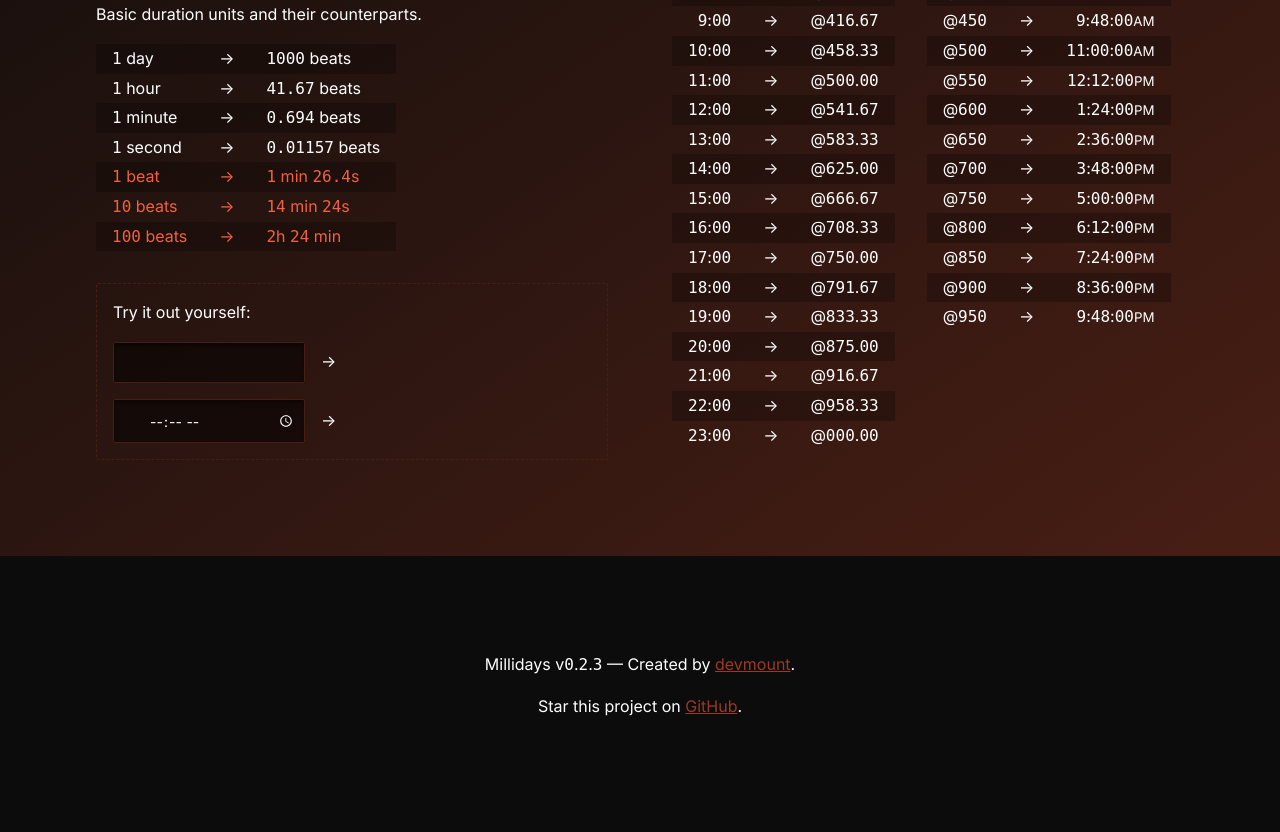
Test: App.vue › converts an entered local time to beats
(page scrolled)
In the time field: (209, 421) [113,399,305,443], type "14:30"
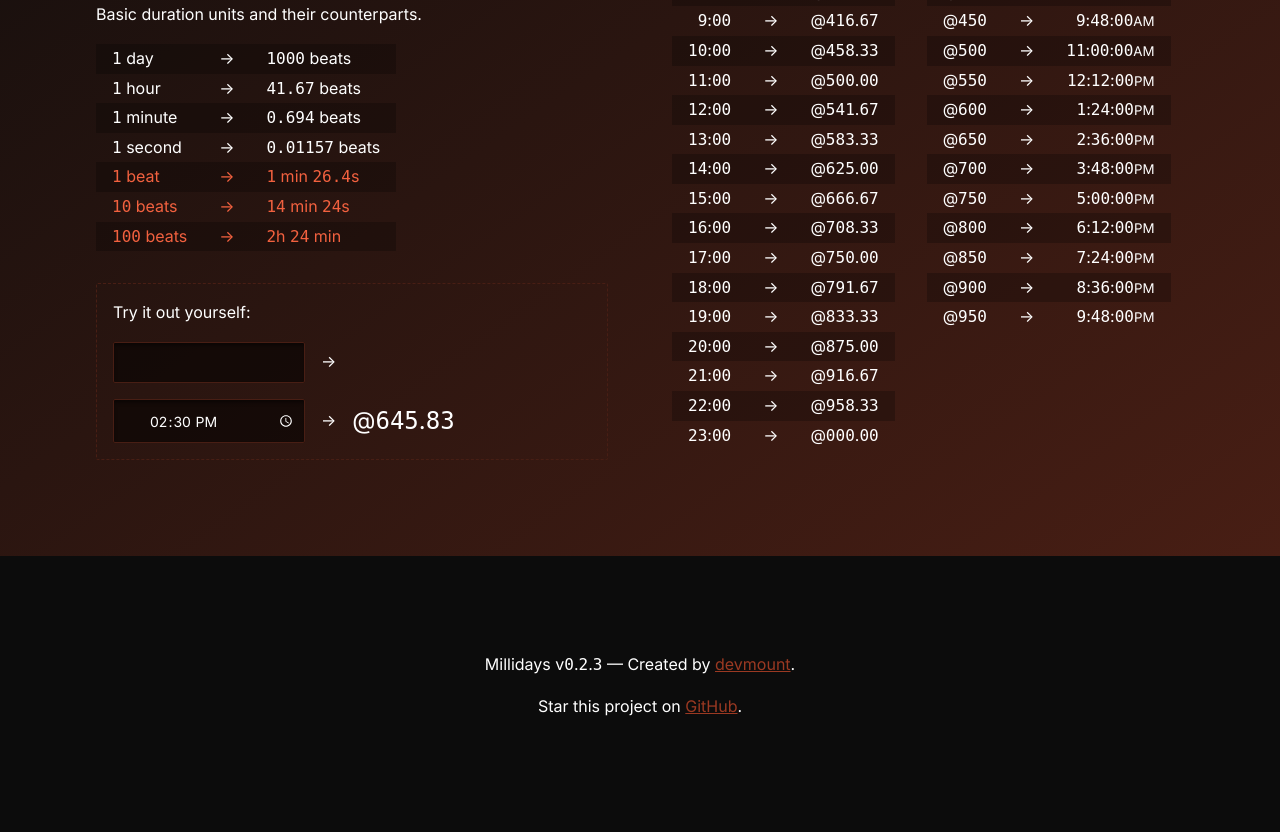
Now the number of elements with class "result" is 1, box [352,402,455,440]
Now the element with class "result" reads "@645.83", box [352,402,455,440]
